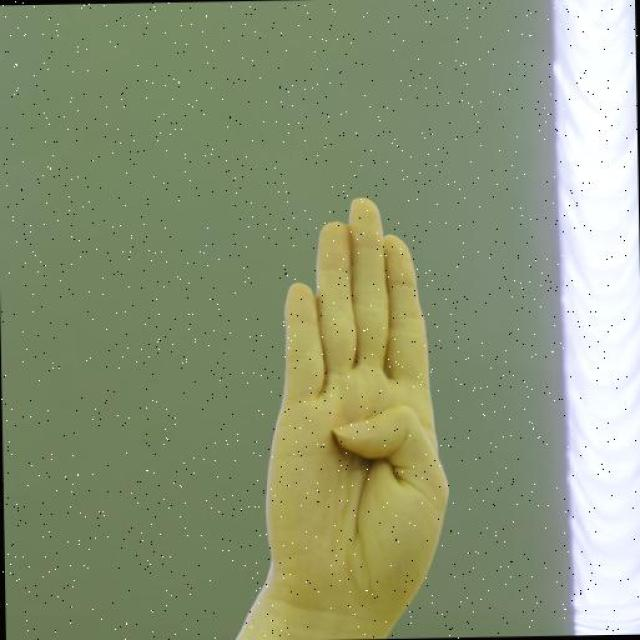B: (244, 184, 465, 628)
